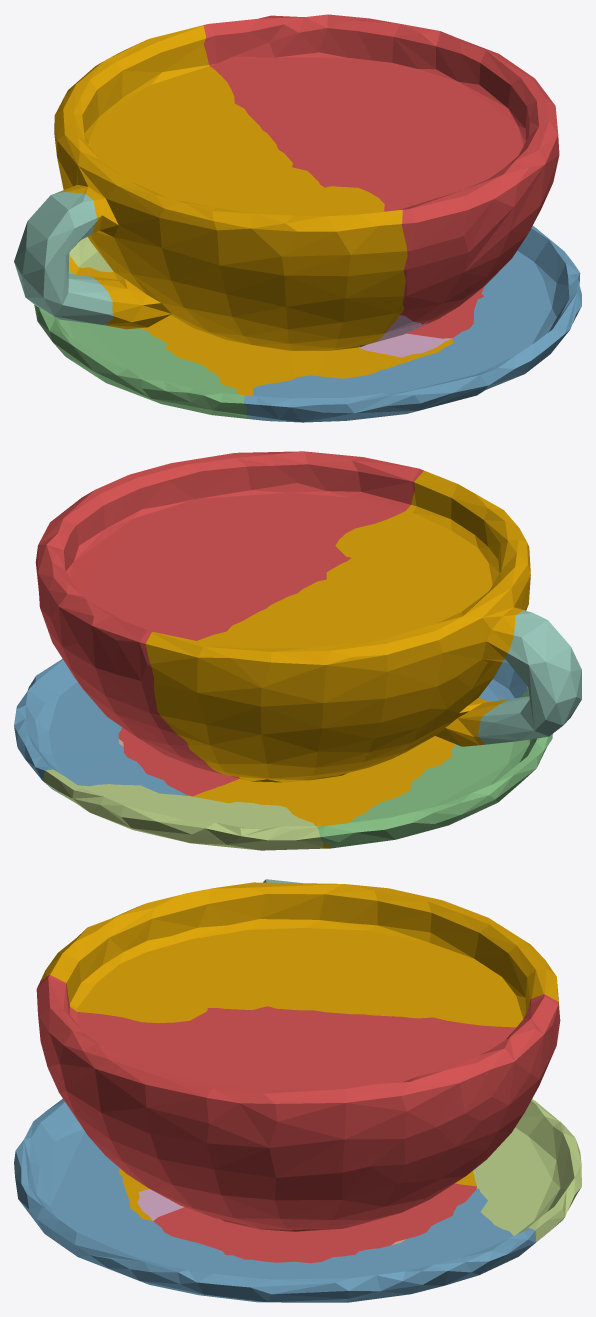
File: mode_6_8pcs.glb
3 renders of one model, top to bottom at view 1: azimuth 30°, elevation 25°; view 2: azimuth 150°, elevation 25°; view 3: azimuth 270°, elevation 25°, orthographic. The views are drawn at different scales.
Parts seen in each view (by area): view 1: piece_0.obj, piece_1.obj, piece_2.obj, piece_3.obj, piece_4.obj, piece_6.obj, piece_5.obj; view 2: piece_0.obj, piece_1.obj, piece_2.obj, piece_3.obj, piece_5.obj, piece_4.obj; view 3: piece_1.obj, piece_0.obj, piece_2.obj, piece_5.obj, piece_6.obj.
Part boxes in pixels (x1,y1,x2,y2): piece_0.obj: [54, 25, 452, 395]; piece_1.obj: [203, 14, 559, 338]; piece_2.obj: [244, 225, 581, 422]; piece_3.obj: [34, 270, 251, 419]; piece_4.obj: [14, 192, 113, 325]; piece_6.obj: [358, 315, 451, 357]; piece_5.obj: [69, 237, 113, 272]; piece_0.obj: [145, 470, 530, 848]; piece_1.obj: [35, 451, 423, 796]; piece_2.obj: [14, 659, 527, 795]; piece_3.obj: [317, 690, 552, 848]; piece_5.obj: [43, 769, 323, 850]; piece_4.obj: [478, 610, 581, 744]; piece_1.obj: [36, 975, 560, 1263]; piece_0.obj: [40, 882, 559, 1220]; piece_2.obj: [14, 1098, 536, 1302]; piece_5.obj: [473, 1099, 581, 1241]; piece_6.obj: [137, 1189, 184, 1220].
Size of the model in its own units: 1 by 0.3641 by 0.8955.
